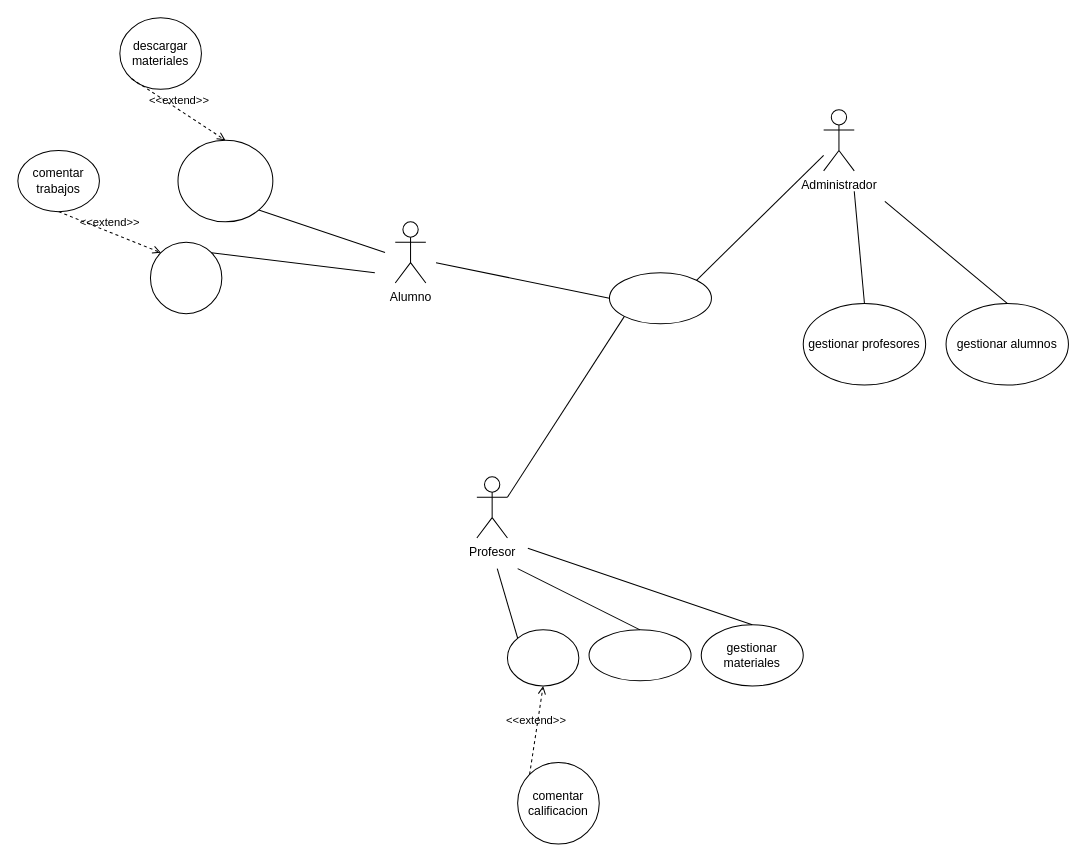
Image size: 1086x862. Some labels were removed from this diagram. Here are the shapes that lost their labels. From the top down, the centre of each, then its label:
At (x=225, y=180): "consultar materiales".
At (x=185, y=277): "subir trabajos".
At (x=659, y=298): "login".
At (x=542, y=657): "calificar trabajos".
At (x=639, y=655): "consultar entregas".
